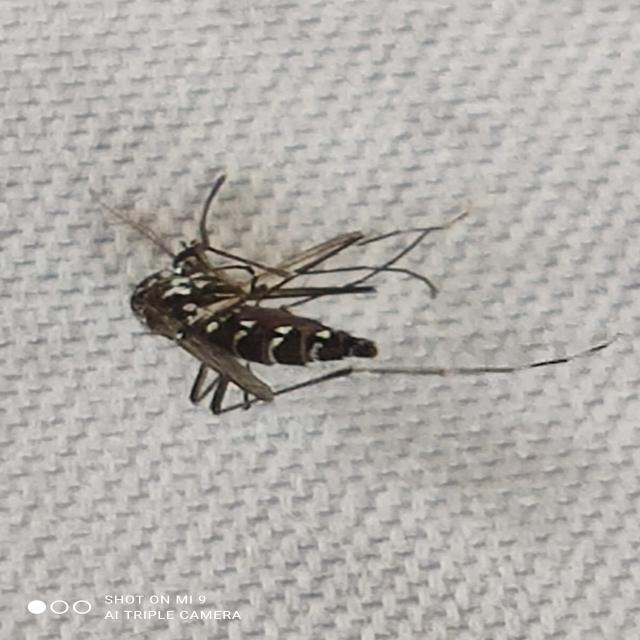albopictus: (103, 155, 535, 434)
